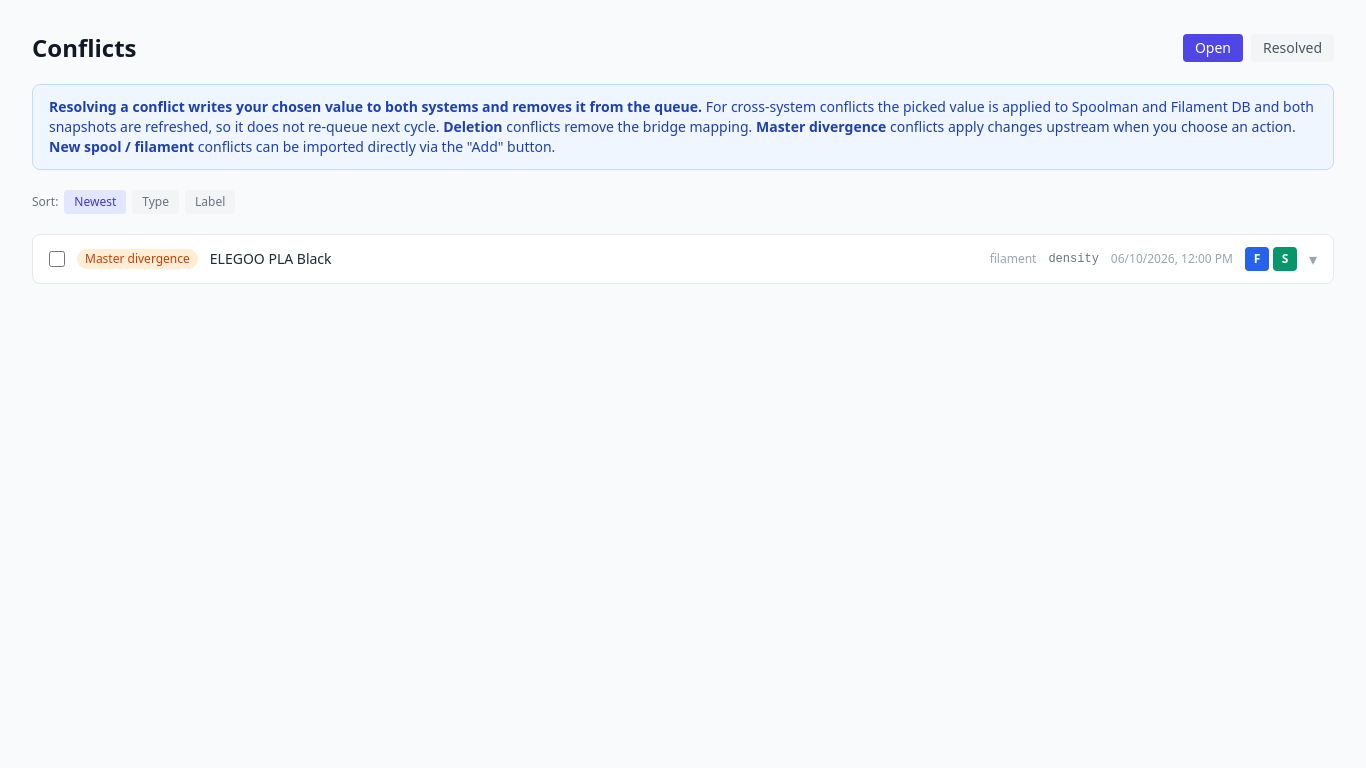
it: Conflicts page — master_divergence card › Apply to all variants shows confirm prompt before submitting
Click the text "ELEGOO PLA Black". click: [137, 259]
box: [49,247,1317,271]
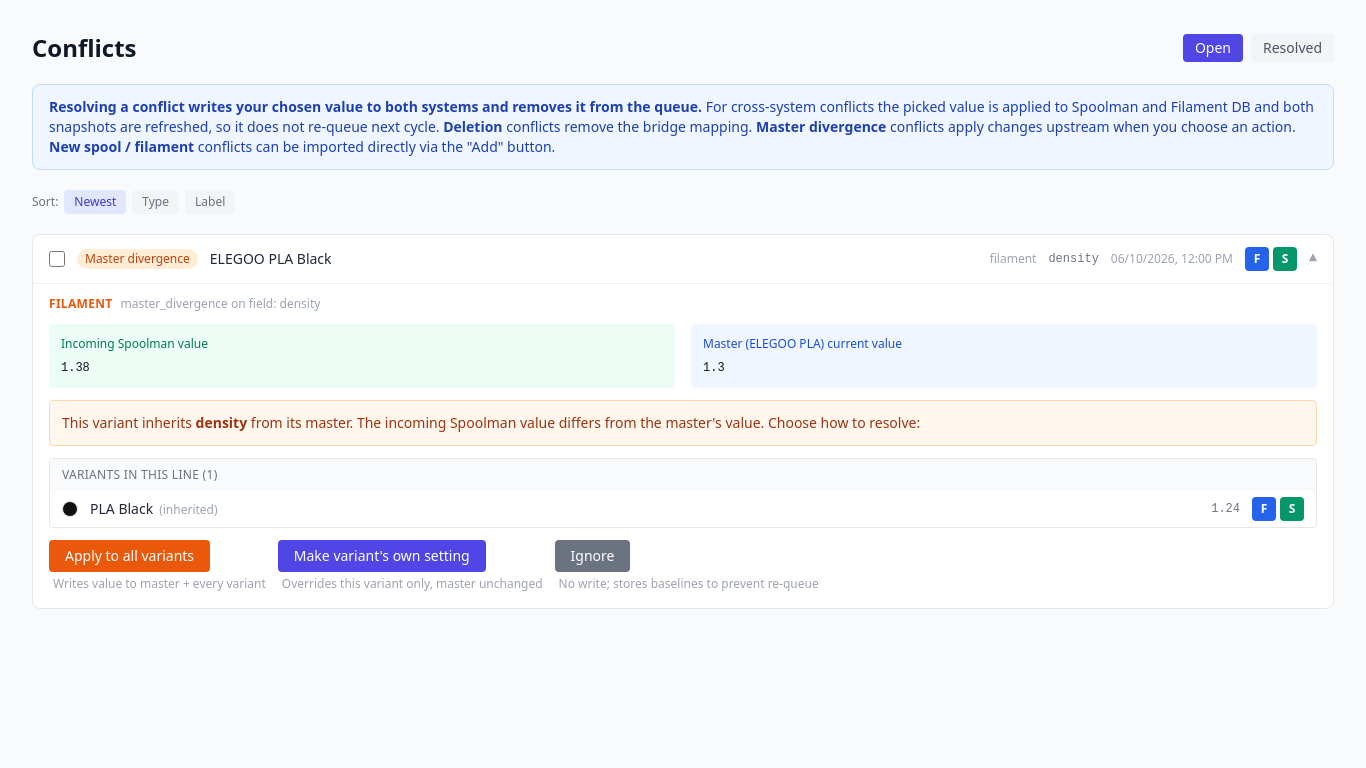
Expected: the button "Apply to all variants" is shown
Click the button "Apply to all variants". click: [130, 556]
box: [49,540,210,572]
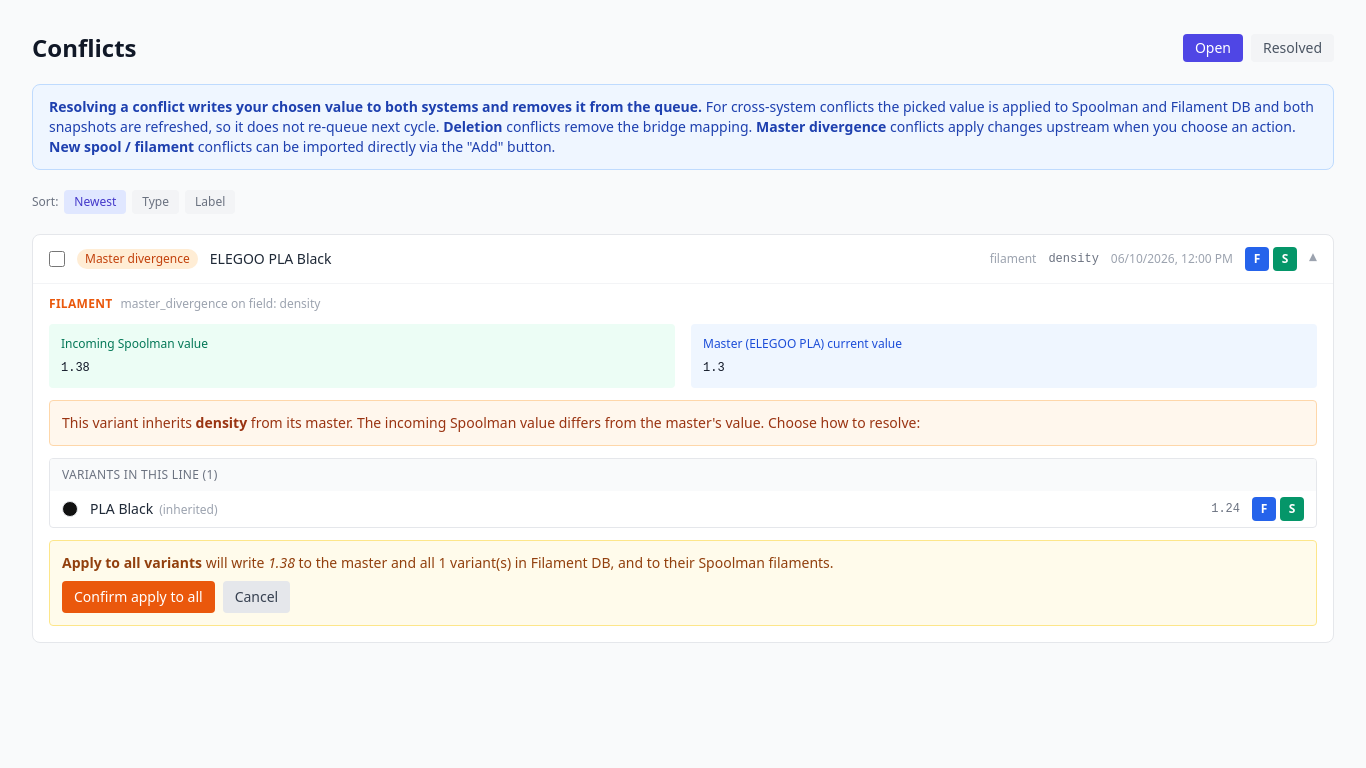
Expected: the button "Confirm apply to all" is shown, [62,581,215,613]
